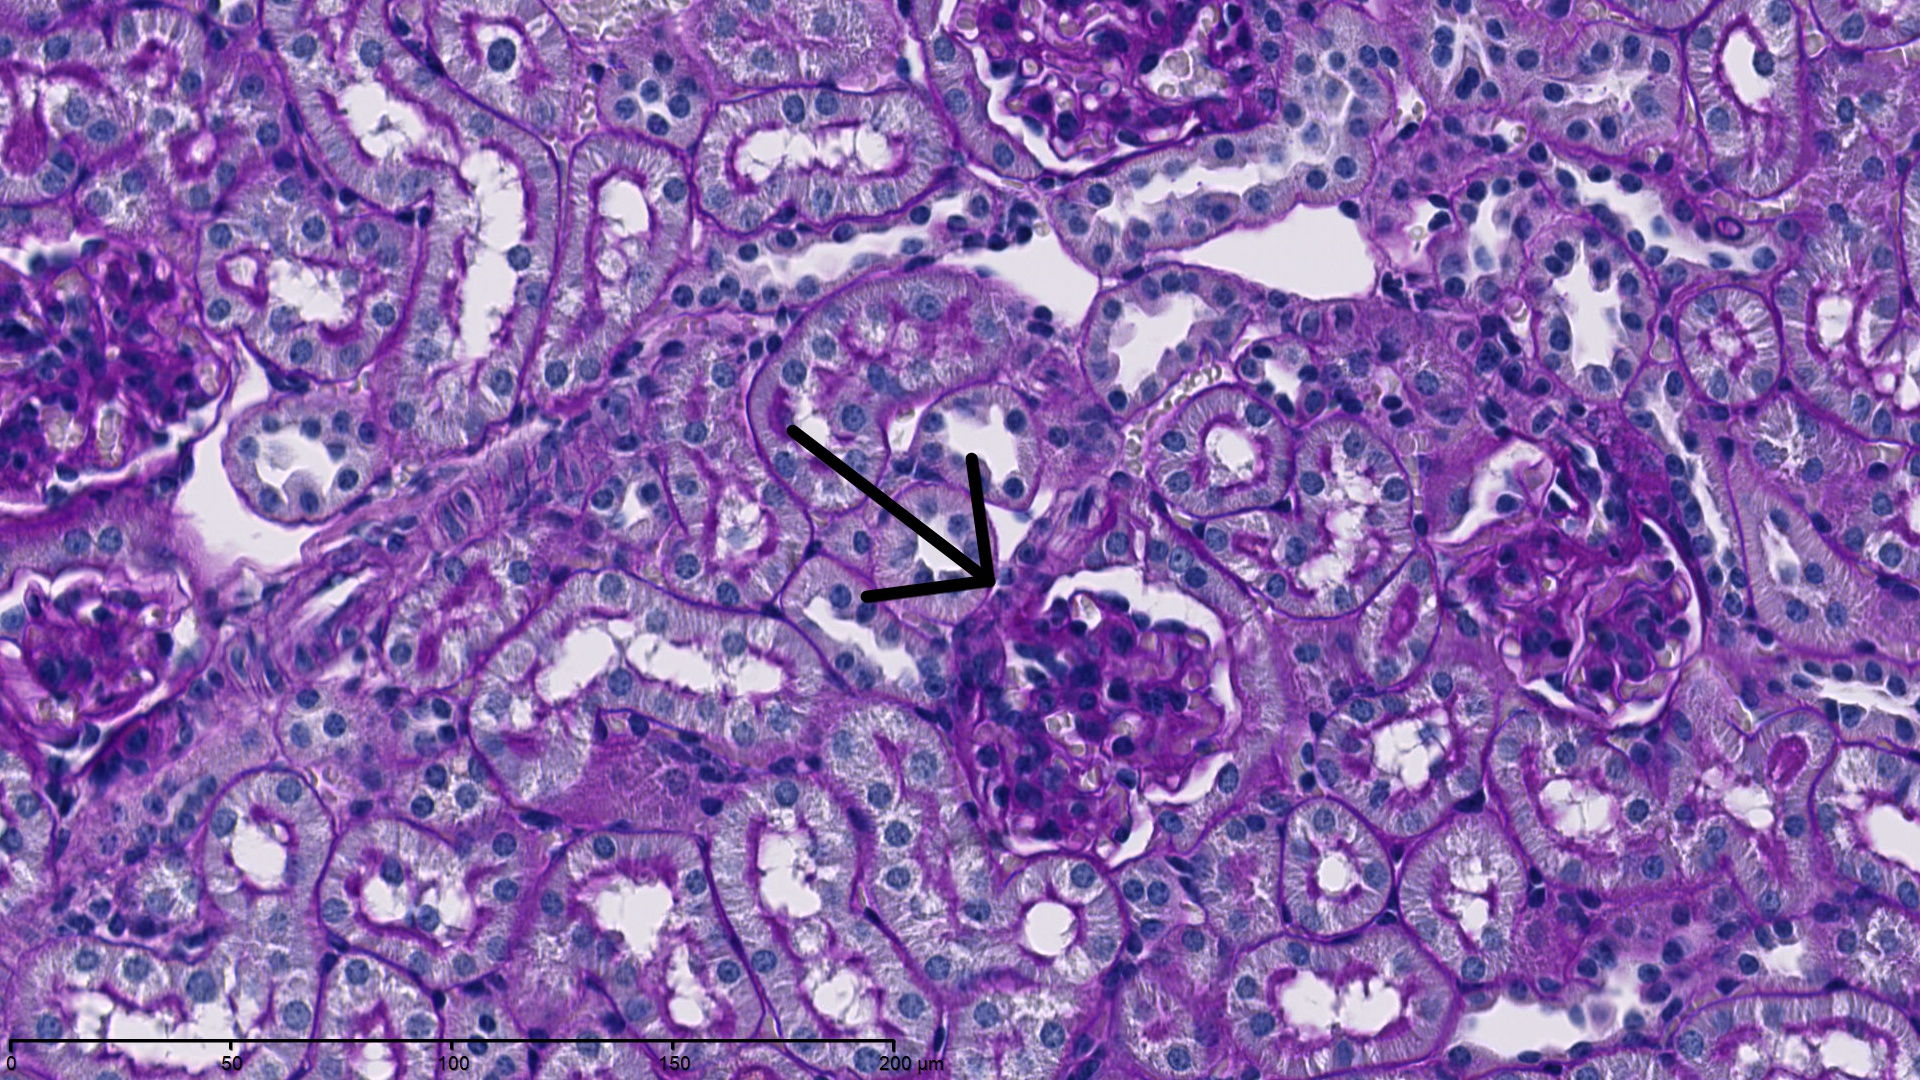Glomeruli: (988, 583, 1251, 861), (1456, 455, 1701, 727), (1, 247, 223, 512)
